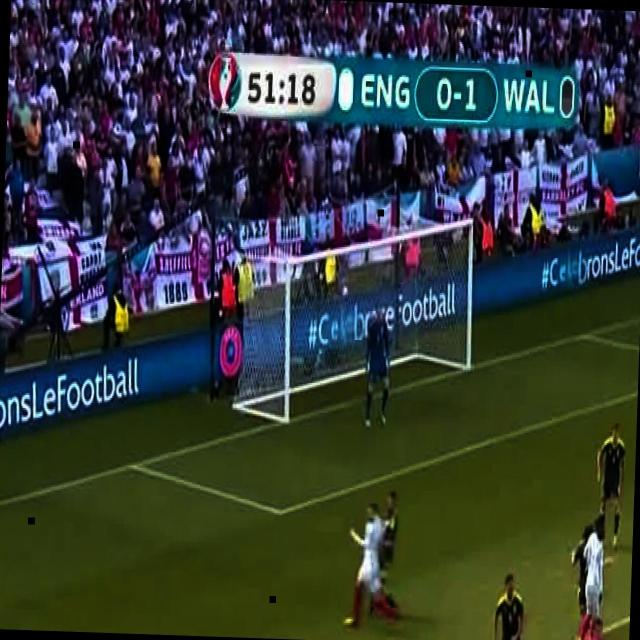player-white: (342, 502, 398, 628), (369, 491, 401, 618), (593, 424, 625, 550), (578, 512, 608, 640), (363, 302, 392, 427), (567, 521, 595, 640), (494, 570, 534, 640), (582, 613, 619, 640)
